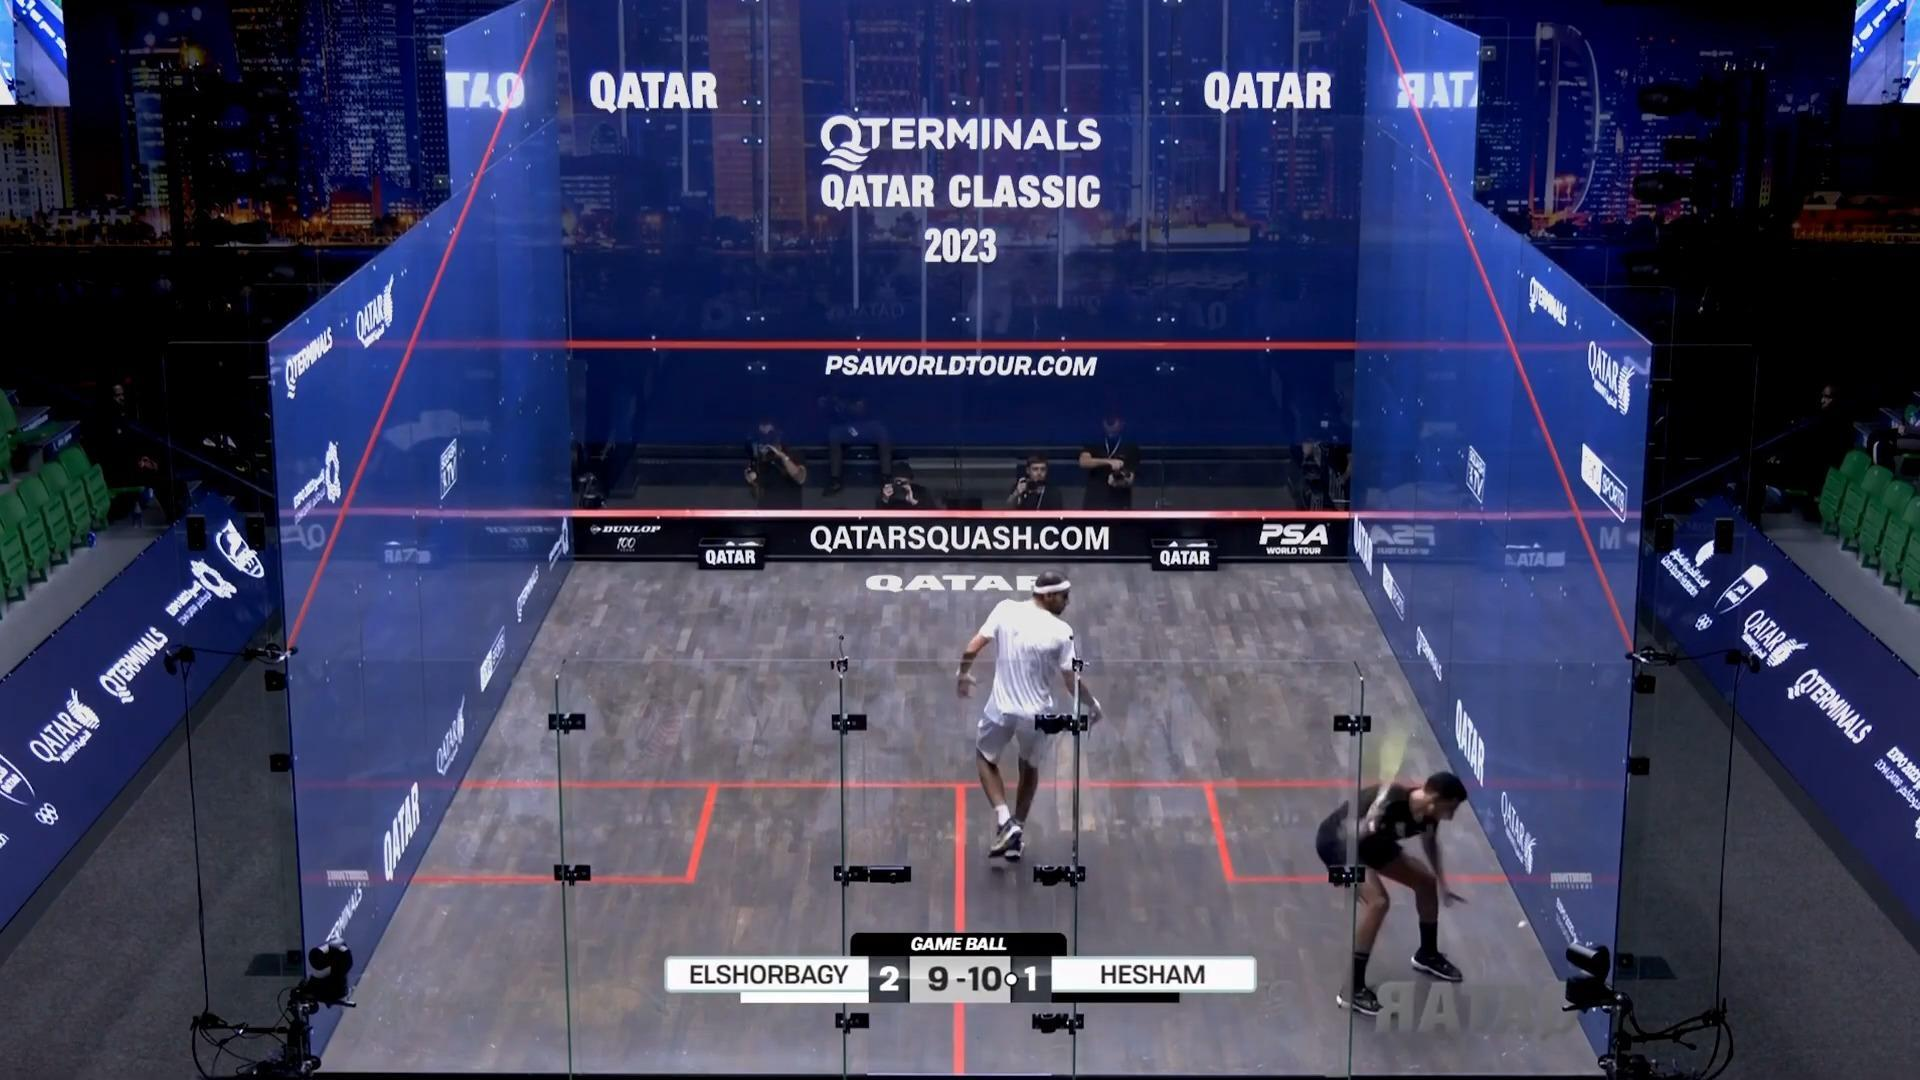Squash-Ball: (1507, 909, 1536, 938)
